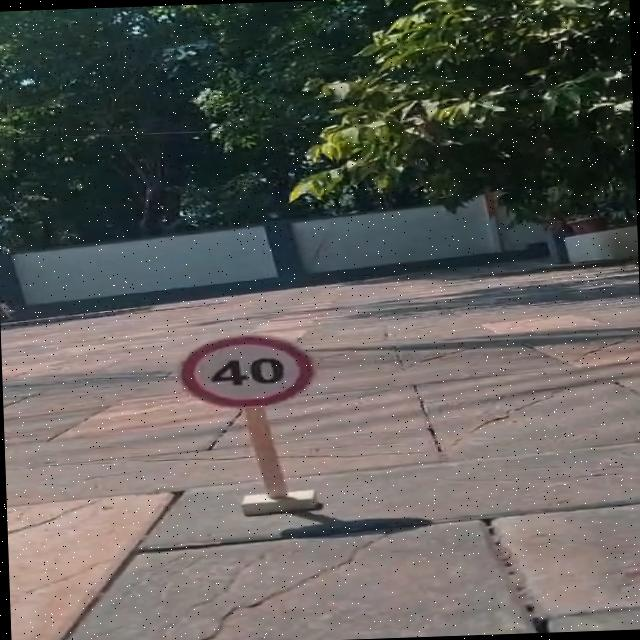Speed40: (168, 327, 324, 413)
